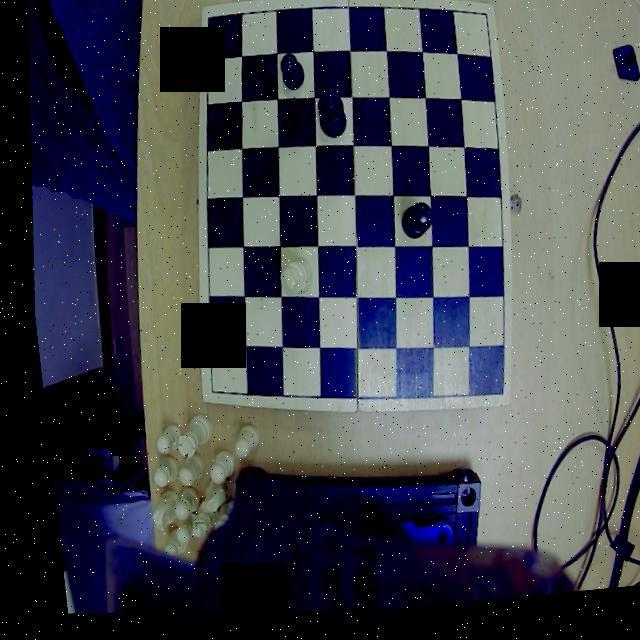chess-table-corners: (476, 386, 500, 414), (192, 382, 217, 408), (198, 10, 218, 40), (469, 11, 491, 36)
